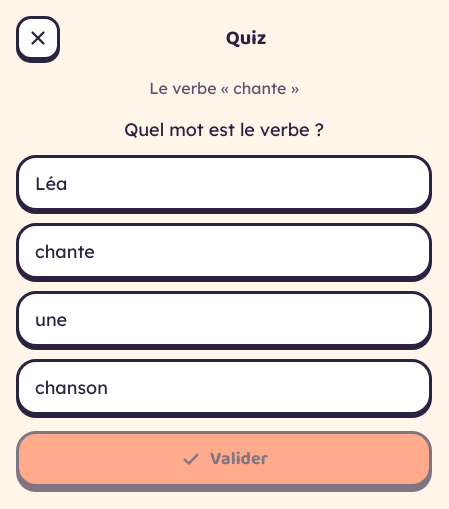
Scenario: GameScreen, as drawn in the mockups › the shared header: a square button back to the games, the game's name centred, the star pill
Step 1. Click the button named "Tous les jeux" → [38, 38], box [16, 16, 60, 60]
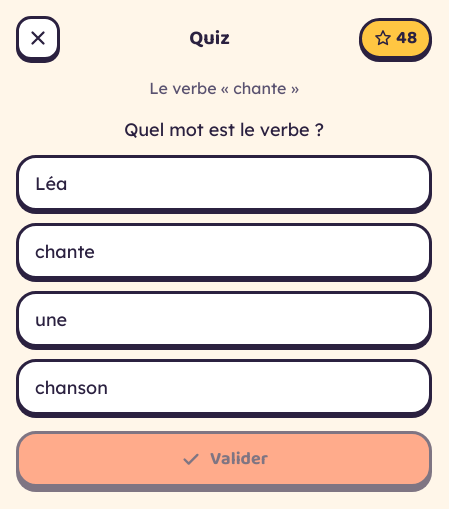
Result: the picture with test id "star-counter" is shown at [359, 18, 432, 58]
